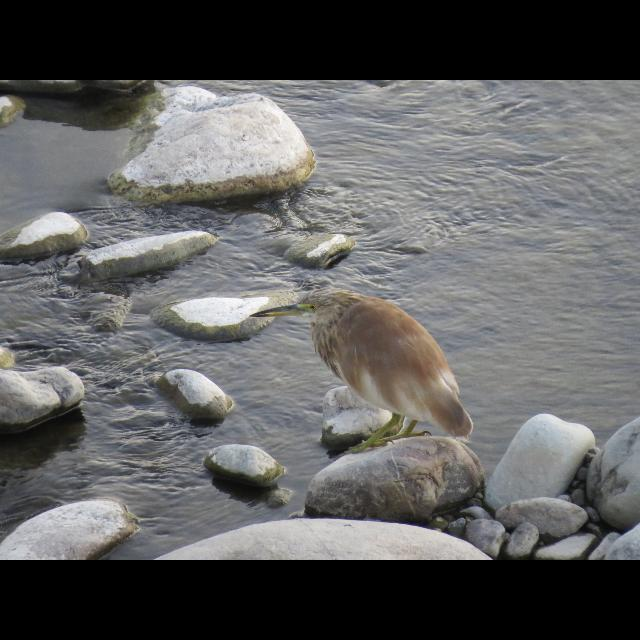heron: (247, 287, 473, 445)
